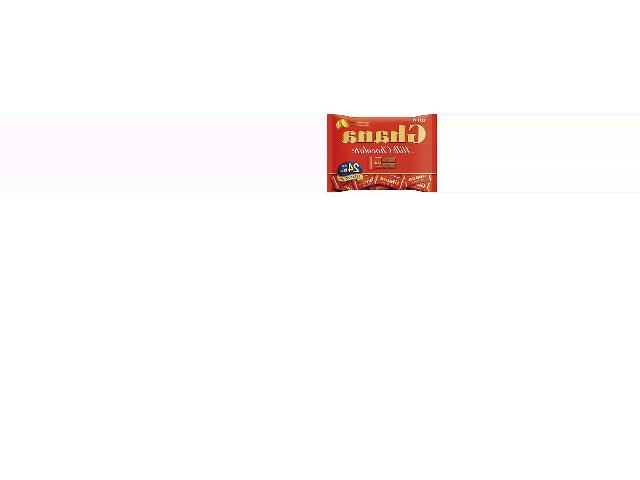chocolate: (325, 115, 435, 194)
